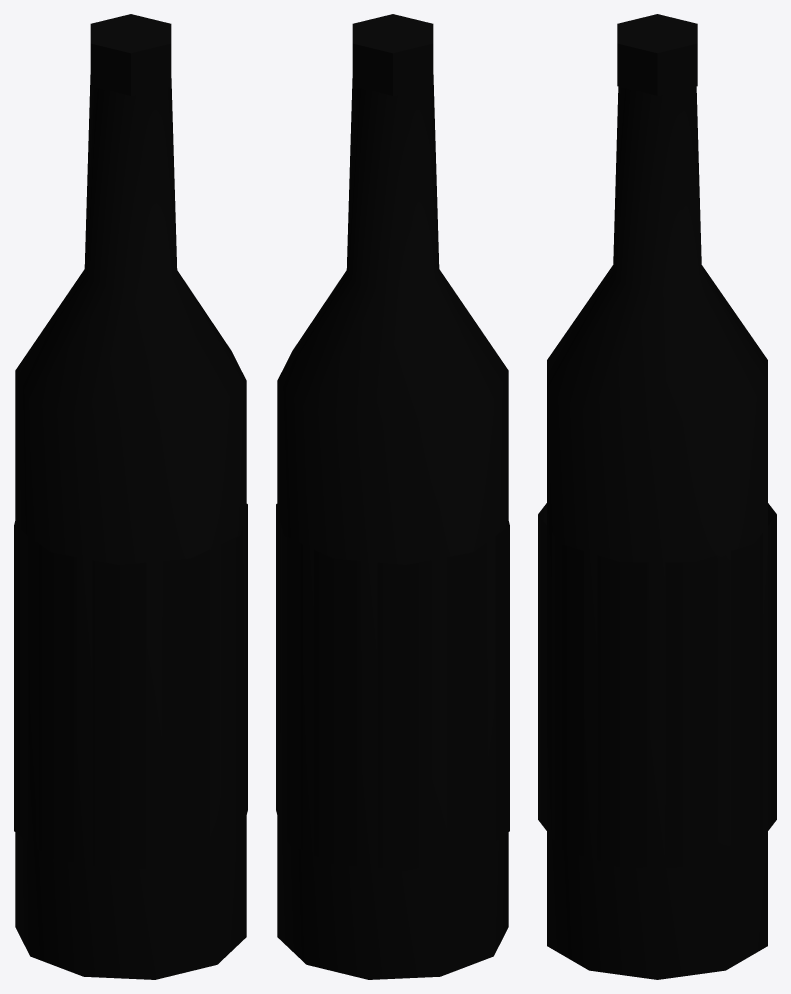
The model's file is SM_wine.fbx.
3 views of the same model, side by side, from view 1: azimuth 30°, elevation 25°; view 2: azimuth 150°, elevation 25°; view 3: azimuth 270°, elevation 25° (orthographic).
Parts seen in each view (by area): view 1: wine; view 2: wine; view 3: wine.
Part boxes in pixels (x1,y1,x2,y2): wine: [14, 14, 247, 979]; wine: [276, 14, 509, 979]; wine: [538, 14, 776, 979].
Bounding box in the file's own units: 0.074 × 0.315 × 0.076.
